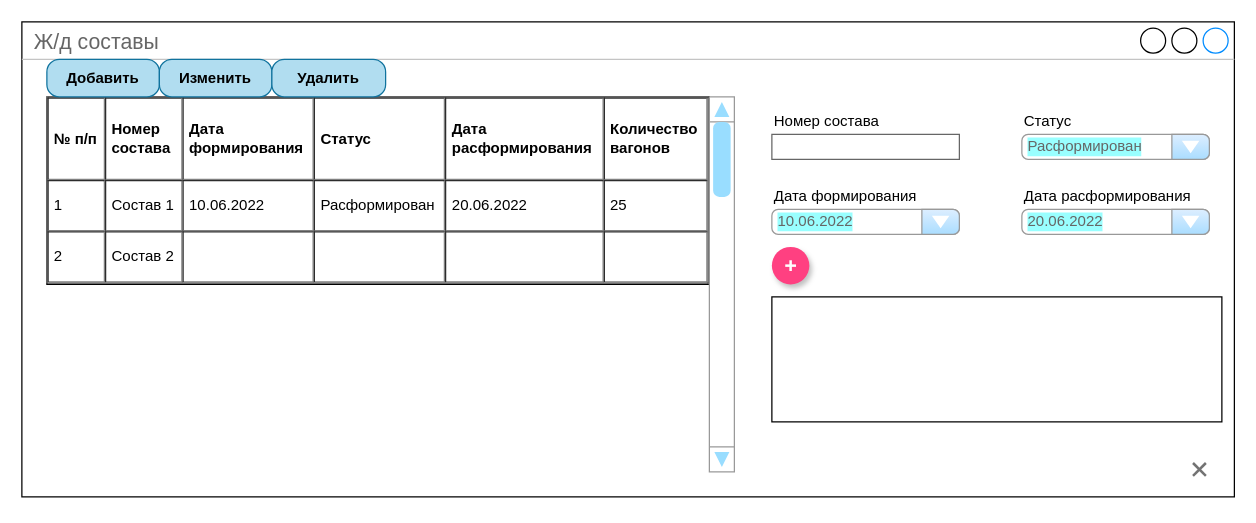
Some shapes in this 1256 by 523 pixel diagram are drawn without their labels. Each missing label, with the centre of its shape:
Состав 1: the point at 865,146
№ п/п Номер вагона 1 Вагон 1 2 Вагон 2: the point at 996,359
